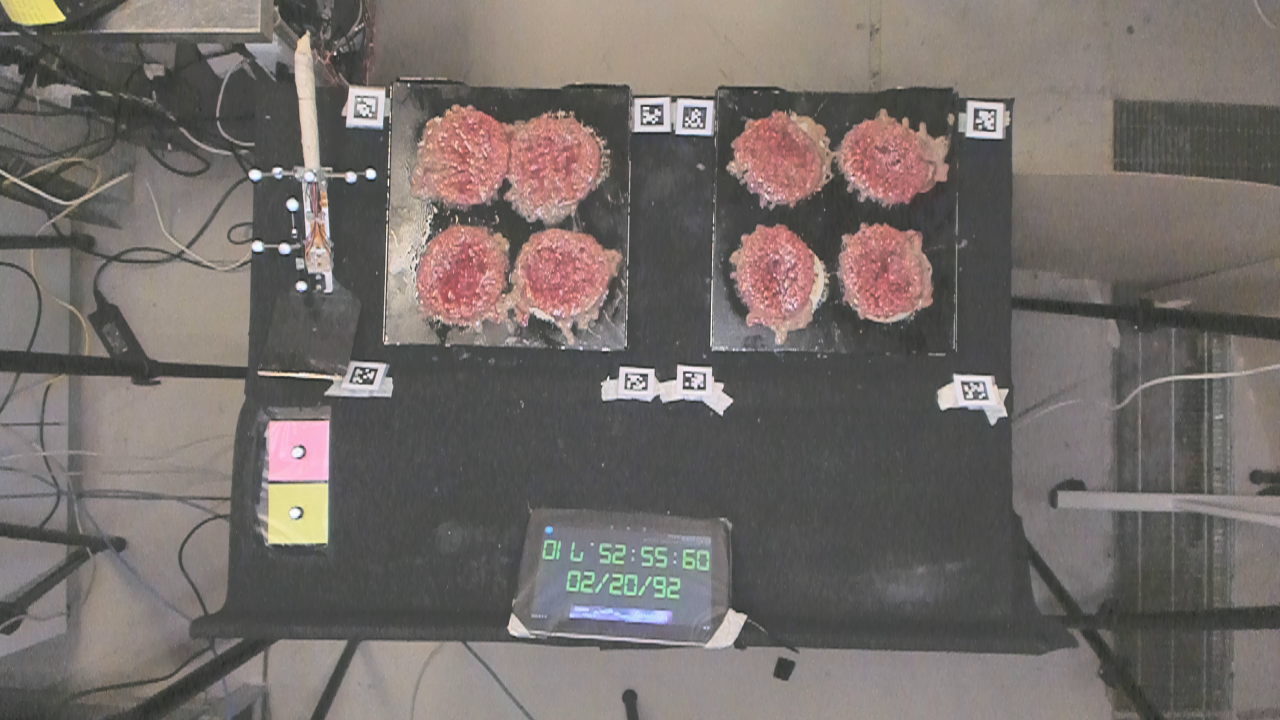hamburger: (730, 111, 821, 207), (424, 101, 507, 206), (417, 228, 507, 324), (516, 110, 601, 206), (838, 224, 923, 316), (516, 232, 605, 315), (740, 227, 815, 321), (845, 119, 928, 203)
marker: (267, 419, 329, 481)
